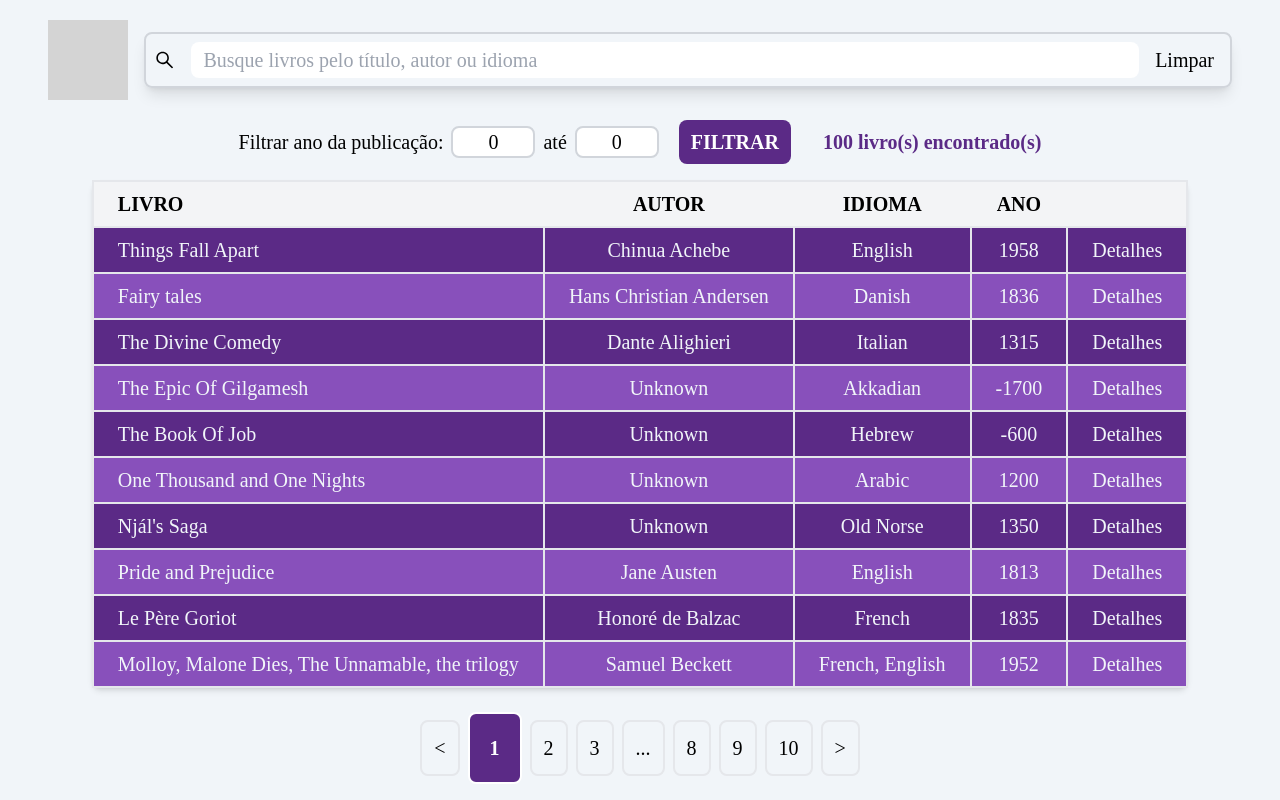
Test: tests in search bar › should search books in English
Expected: the element with id "search-bar" is shown, [48,20,1232,100]
Type "English" into the field with id "search-bar-input" at (665, 60), box [191,42,1139,78]
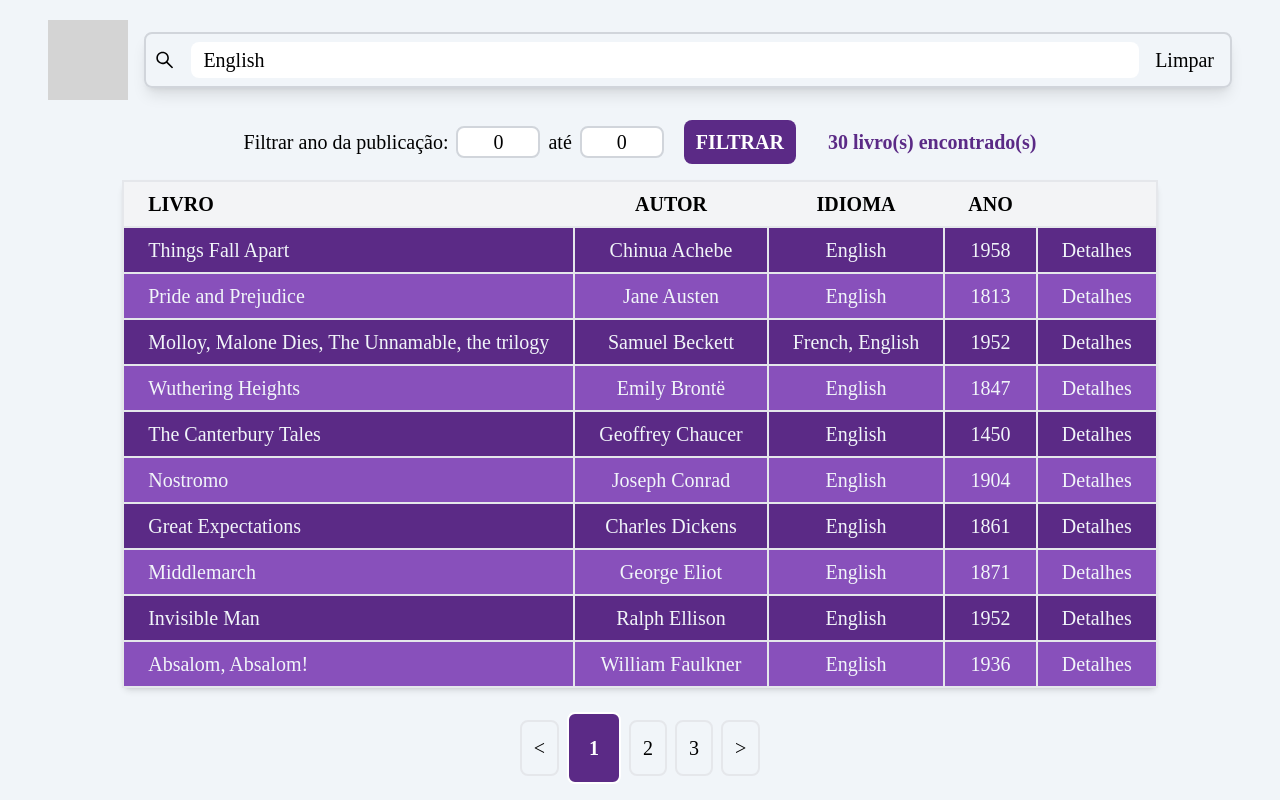
Expected: the text "30 livro(s) encontrado(s)" is shown, [828,128,1036,156]
Now the number of list items is 5, box [520,720,559,776]; [567,712,621,784]; [629,720,667,776]; [675,720,713,776]; [721,720,760,776]
